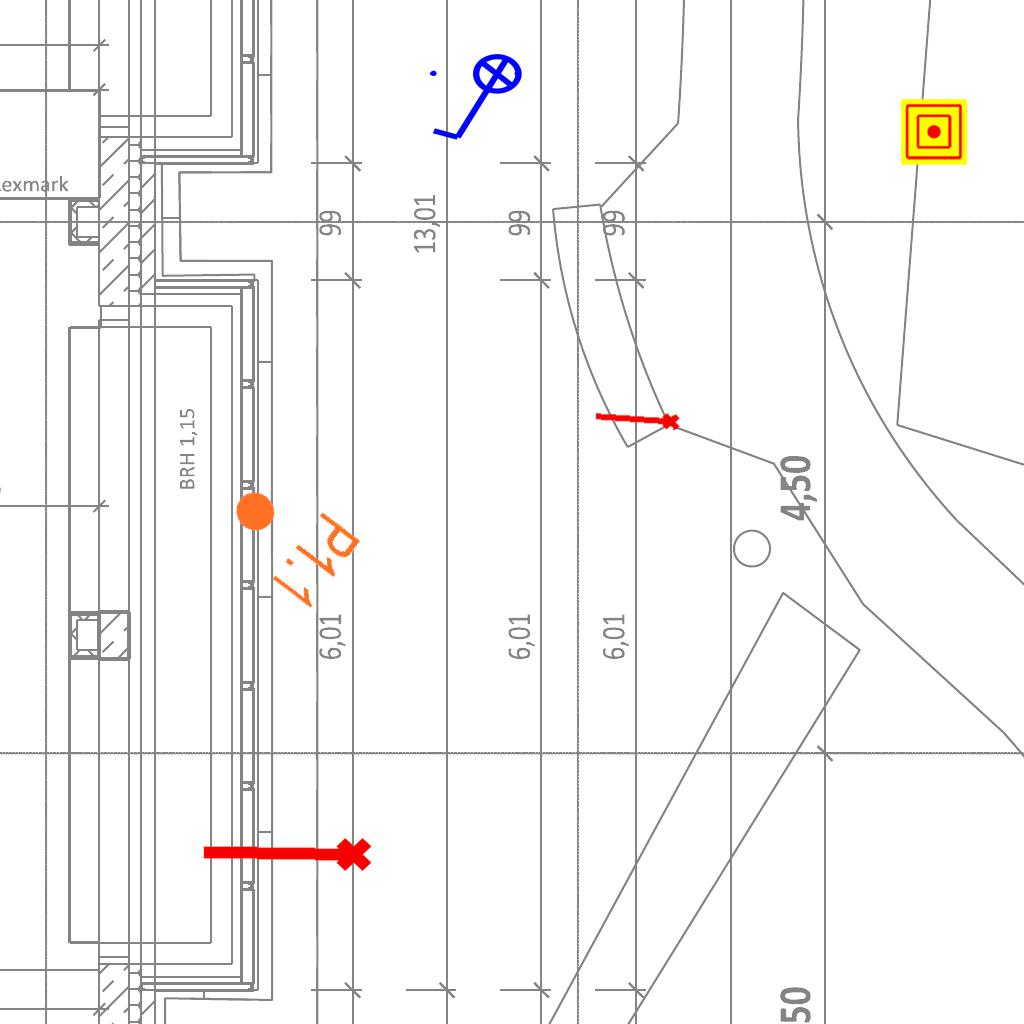ASR_Ansaugoeffnung: (197, 831, 375, 881), (592, 405, 682, 436)
Ausschalter_beleuchtet: (424, 52, 536, 148)
Downlight_LED_Einbauleuchten_Flur: (207, 463, 366, 615)
NAM-Nichtautomatischer_Melder: (901, 99, 967, 165)
